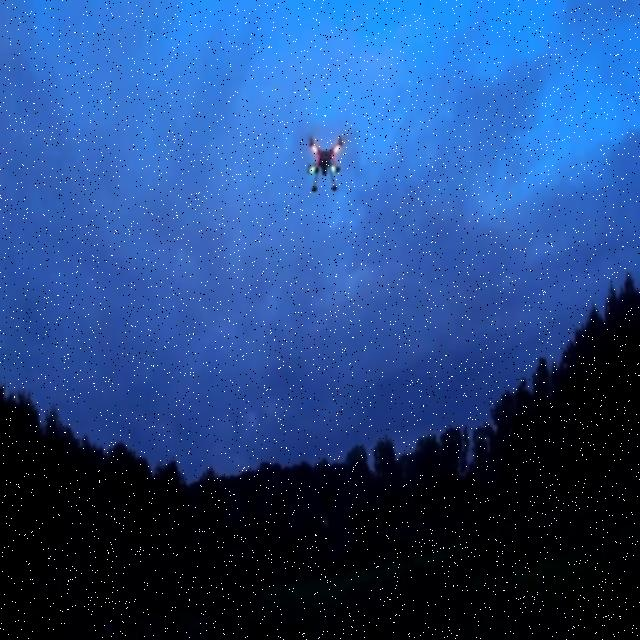UAV: (307, 136, 343, 192)
